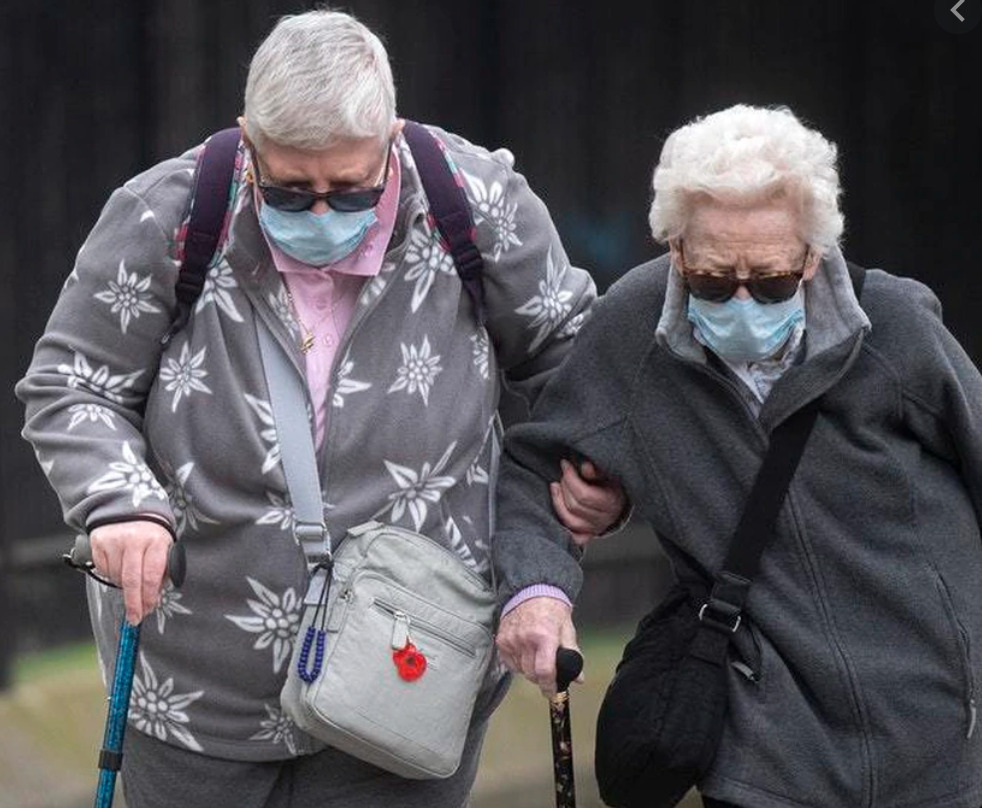Bad: (17, 10, 982, 806)
